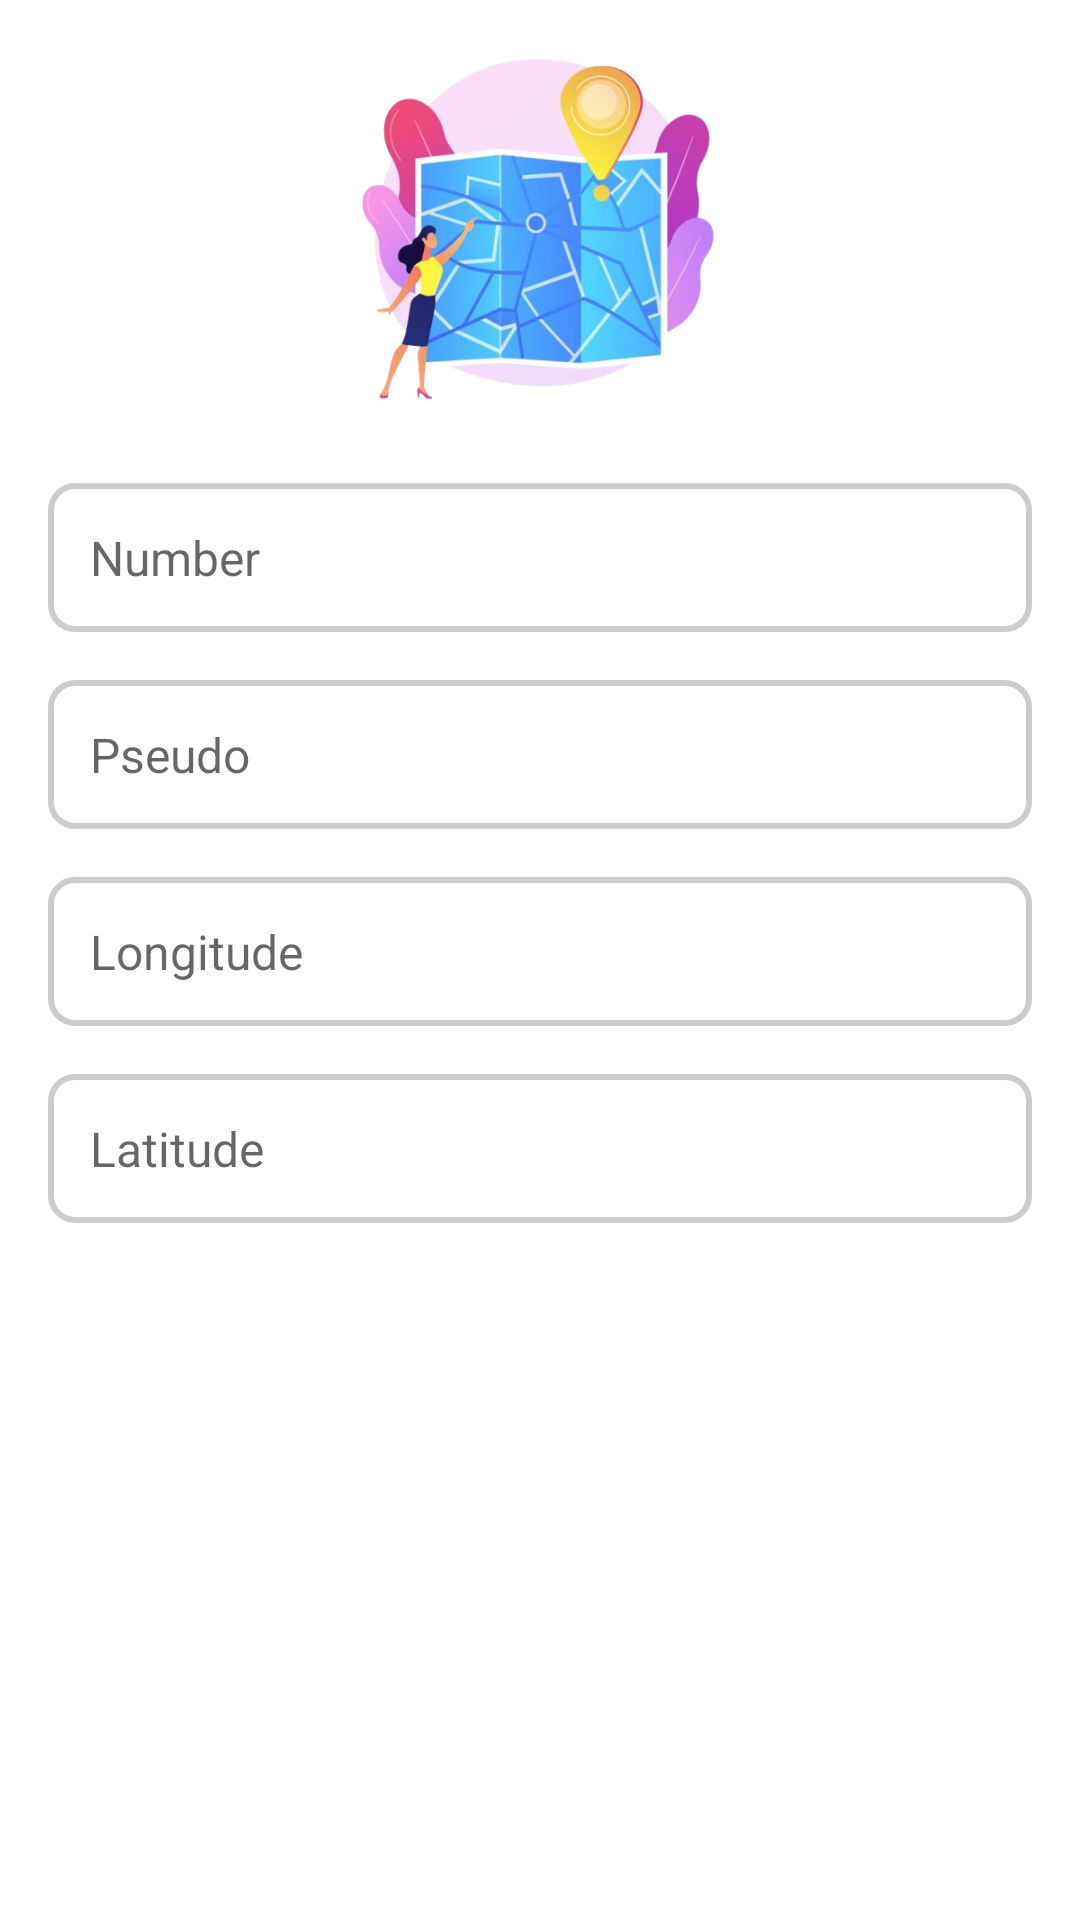

Icons on this 1080x1920 Android screen, each with the point to tap as (x=x, y=y):
Top image: (x=538, y=229)
